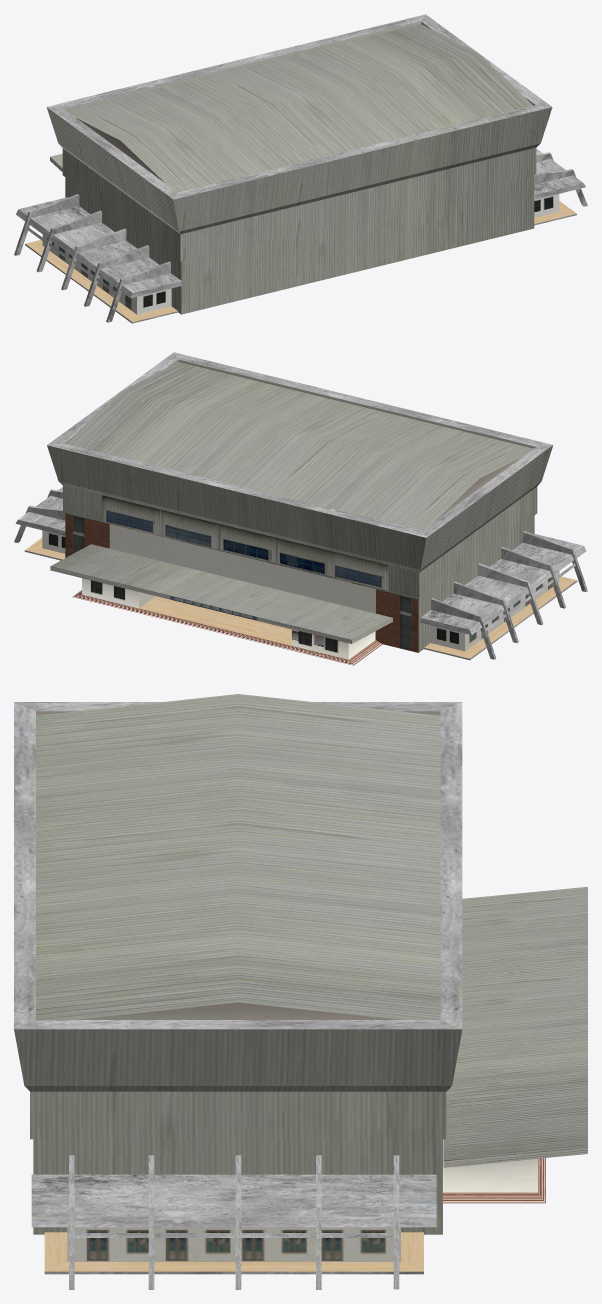
3 views of the same model, one above another, from view 1: azimuth 30°, elevation 25°; view 2: azimuth 150°, elevation 25°; view 3: azimuth 270°, elevation 25° (orthographic). The views are drawn at different scales.
Visible parts, largest first — view 1: 5c73a41d9b2f734bcccde518.001; view 2: 5c73a41d9b2f734bcccde518.001; view 3: 5c73a41d9b2f734bcccde518.001.
Boxes of the visible parts, x1=… form: 5c73a41d9b2f734bcccde518.001: x1=14, y1=14, x2=587, y2=323; 5c73a41d9b2f734bcccde518.001: x1=14, y1=352, x2=587, y2=665; 5c73a41d9b2f734bcccde518.001: x1=14, y1=694, x2=587, y2=1289.
Size of the model in its own units: 61.35 by 16.15 by 35.89.
1 material, 1 textured.
